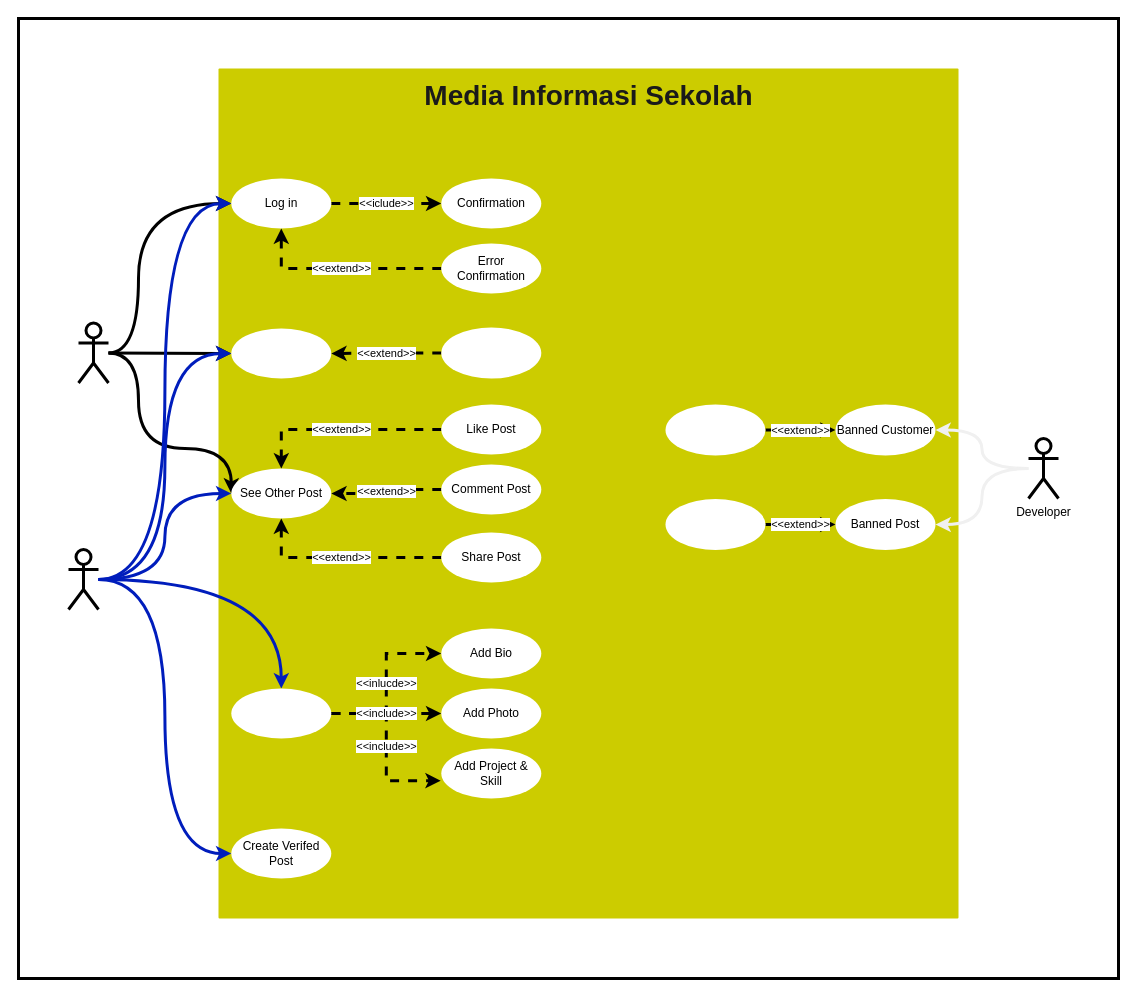
This 1137x997 diagram has some shape labels left out. Each missing label, with the centre of its shape:
"Admin Organization" belongs at (83,579).
"Create Portfolio" belongs at (281,713).
"Create Post" belongs at (281,353).
"Customer" belongs at (93,352).
"Delete Post" belongs at (491,352).
"Unbanned Customer" belongs at (715,429).
"Unbanned Post" belongs at (715,524).
